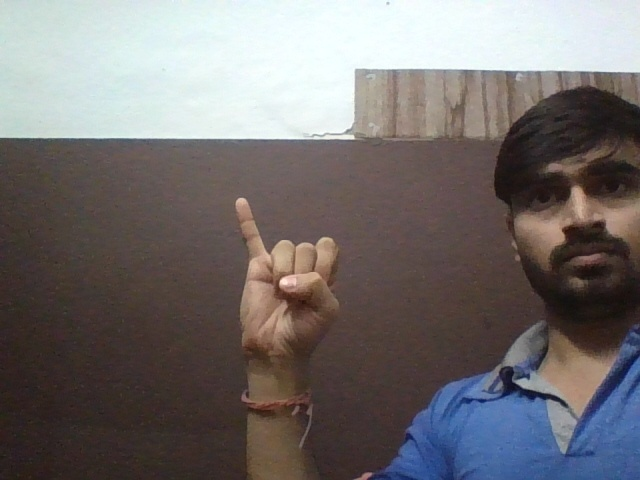I: (229, 194, 344, 356)
